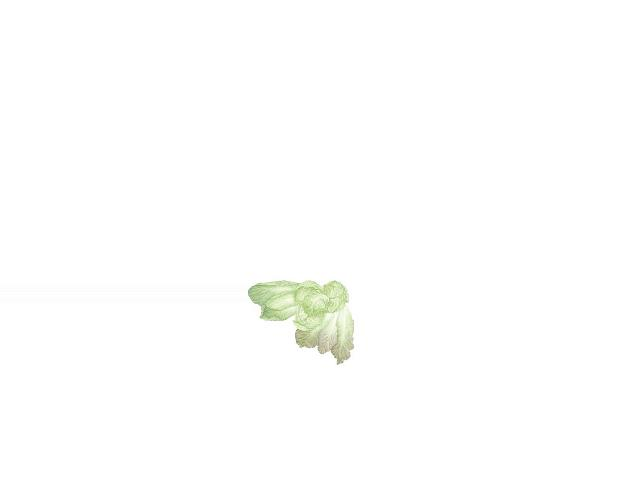lettuce: (247, 274, 355, 369)
